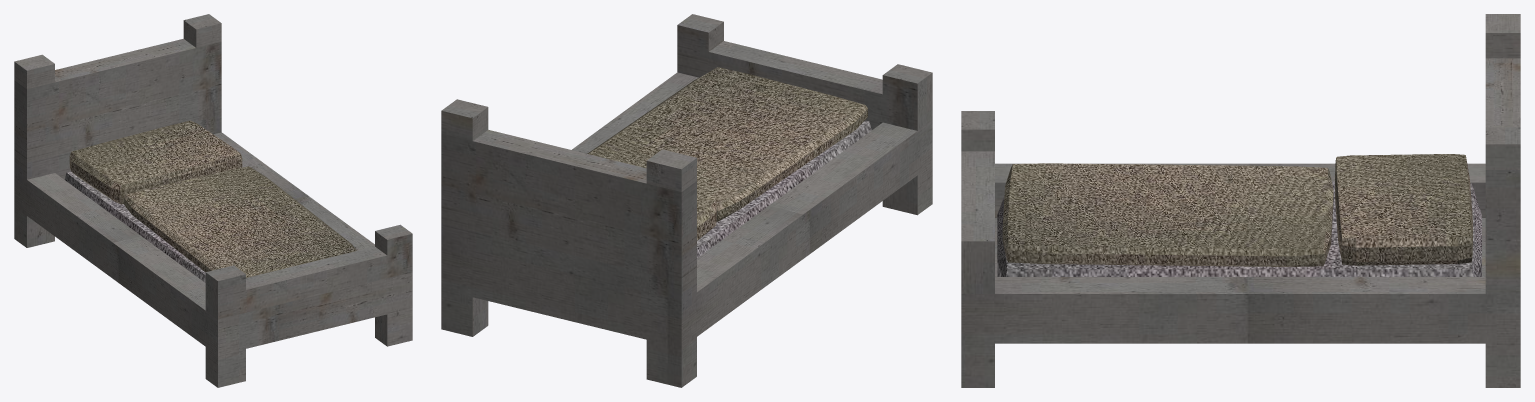
File: bed.glb
The picture shows the model from 3 angles, left to right: view 1: azimuth 30°, elevation 25°; view 2: azimuth 150°, elevation 25°; view 3: azimuth 270°, elevation 25°; orthographic projection. The views are drawn at different scales.
Visible parts, largest first — view 1: Bed; view 2: Bed; view 3: Bed.
Part boxes in pixels (x1,y1,x2,y2): Bed: (14, 14, 412, 387); Bed: (441, 14, 932, 387); Bed: (961, 14, 1520, 387).
Bounding box in the file's own units: 1.05 × 0.9135 × 1.9.
1 material, 1 textured.
